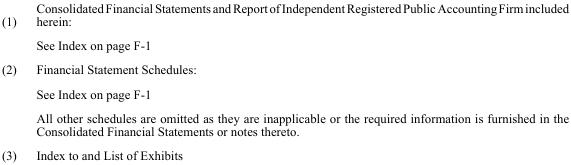table: (0, 0, 568, 161)
table column: (25, 0, 568, 161), (0, 0, 25, 161)
table row: (0, 105, 568, 142), (0, 0, 568, 32), (0, 56, 568, 81), (0, 32, 568, 56), (0, 81, 568, 105), (0, 142, 568, 161)
table spanning cell: (0, 56, 25, 142), (0, 0, 25, 56)
